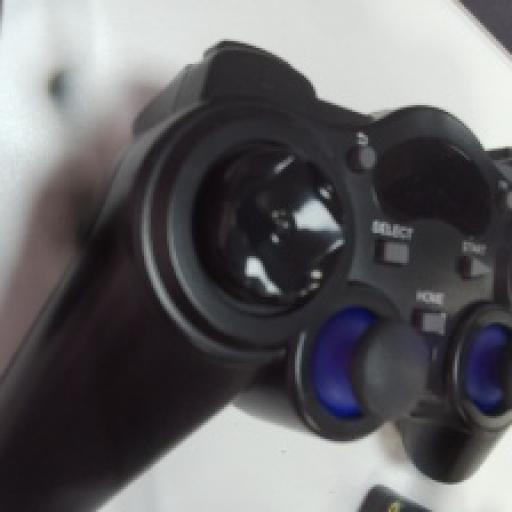game pad: (0, 43, 510, 510)
